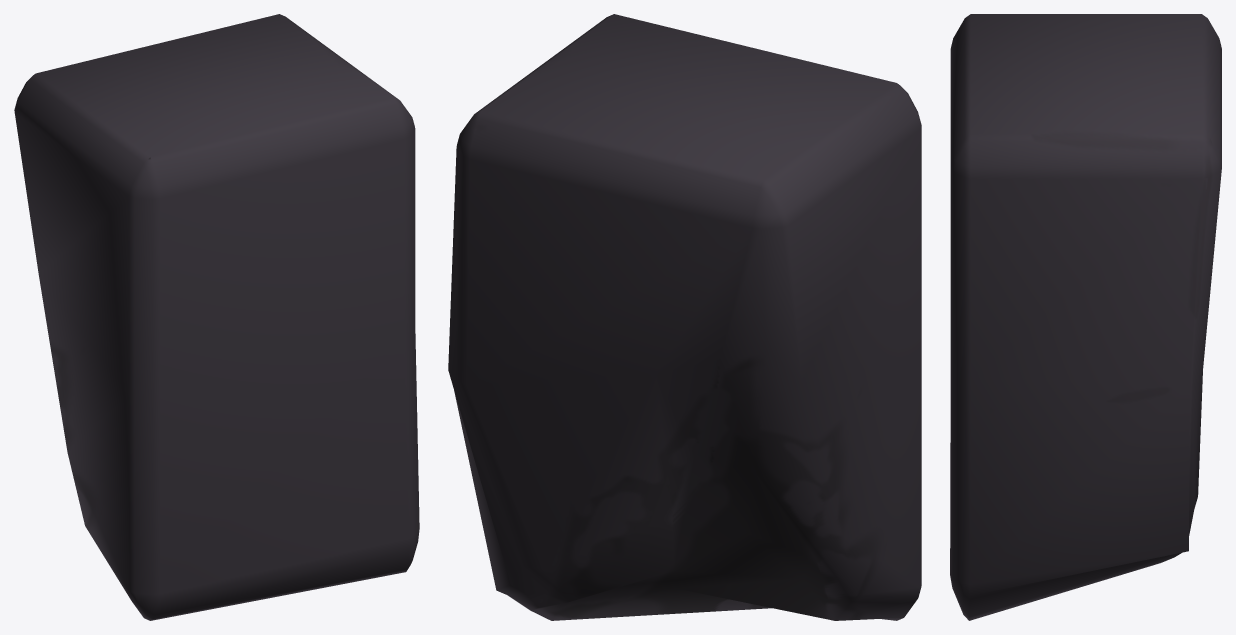
File: Pumpkin_Brick_4.fbx
3 renders of one model, left to right at view 1: azimuth 30°, elevation 25°; view 2: azimuth 150°, elevation 25°; view 3: azimuth 270°, elevation 25°, orthographic. The views are drawn at different scales.
Parts seen in each view (by area): view 1: Cube.005; view 2: Cube.005; view 3: Cube.005.
Part boxes in pixels (box(x1,y1,x2,y2)): Cube.005: box(14, 14, 419, 620); Cube.005: box(448, 14, 921, 620); Cube.005: box(950, 14, 1221, 620).
Size of the model in its own units: 94.22 by 144 by 73.63.
